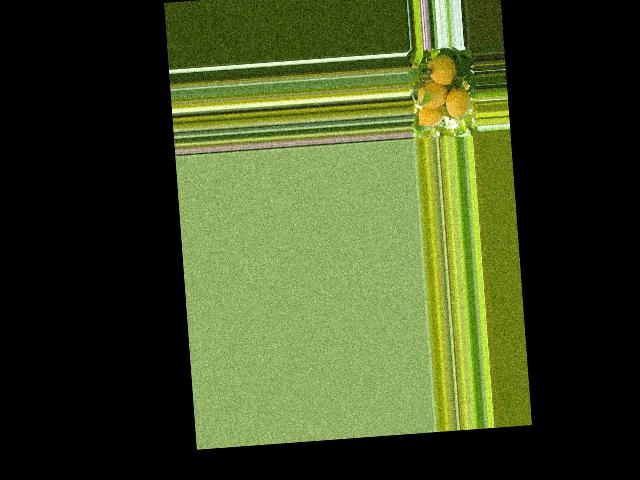lemon: (424, 52, 458, 86)
